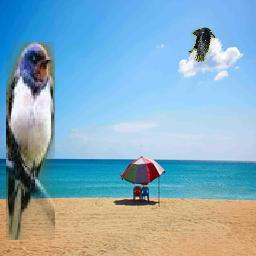Crow: (189, 28, 216, 63)
Swallow: (7, 42, 56, 240)
